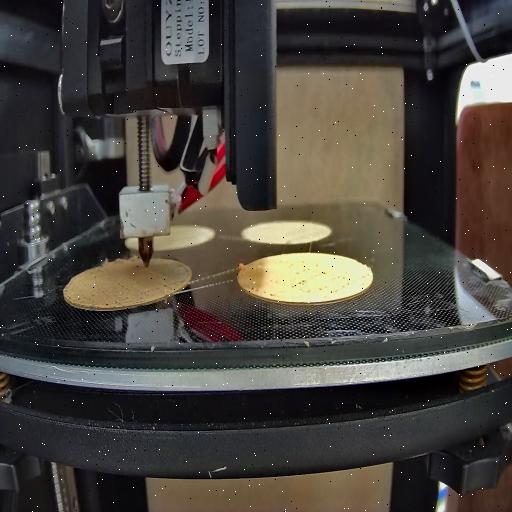under_extrusion: (248, 266, 362, 298), (68, 283, 122, 308)
